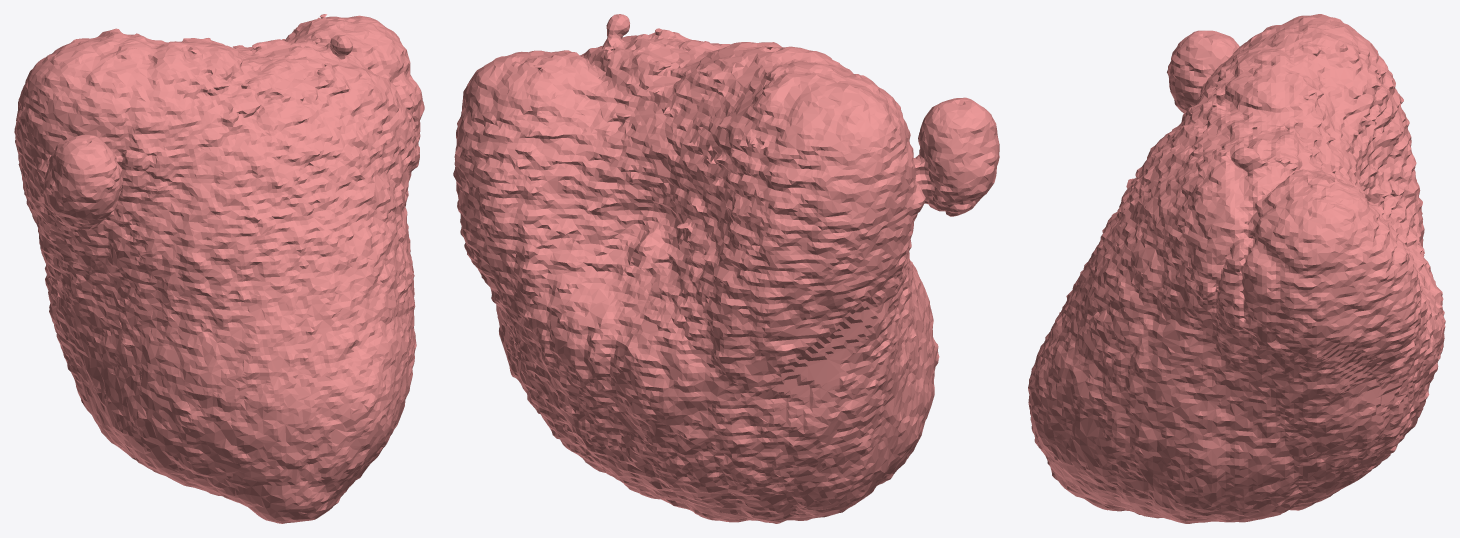
The model's file is bladder.glb.
3 renders of one model, left to right at view 1: azimuth 30°, elevation 25°; view 2: azimuth 150°, elevation 25°; view 3: azimuth 270°, elevation 25°, orthographic. The views are drawn at different scales.
Visible parts, largest first — view 1: Urinary_Bladder_with_diverticula_Nevit_Dilmenstl; view 2: Urinary_Bladder_with_diverticula_Nevit_Dilmenstl; view 3: Urinary_Bladder_with_diverticula_Nevit_Dilmenstl.
Boxes of the visible parts, <box> form: Urinary_Bladder_with_diverticula_Nevit_Dilmenstl: <box>14,14,424,523</box>; Urinary_Bladder_with_diverticula_Nevit_Dilmenstl: <box>453,14,999,523</box>; Urinary_Bladder_with_diverticula_Nevit_Dilmenstl: <box>1028,14,1445,523</box>.
Bounding box in the file's own units: 1.2 × 1.21 × 1.05.
